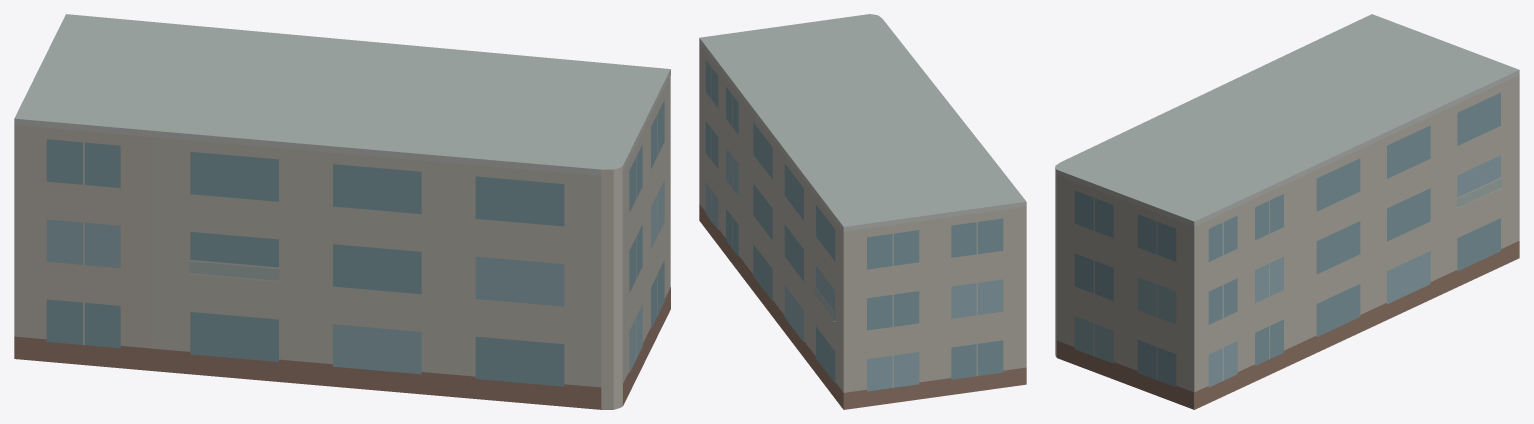
Rendered from survey-upis-32527360.glb.
3 renders of one model, left to right at view 1: azimuth 30°, elevation 25°; view 2: azimuth 150°, elevation 25°; view 3: azimuth 270°, elevation 25°, orthographic. The views are drawn at different scales.
Visible parts, largest first — view 1: survey-upis-32527360.tmp; view 2: survey-upis-32527360.tmp; view 3: survey-upis-32527360.tmp.
Part boxes in pixels (<box>): survey-upis-32527360.tmp: <box>14,14,670,409</box>; survey-upis-32527360.tmp: <box>699,14,1026,409</box>; survey-upis-32527360.tmp: <box>1055,14,1519,409</box>.
Size of the model in its own units: 21.66 by 9.15 by 20.46.
